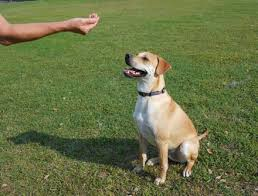dog_sitting: (123, 50, 204, 187)
